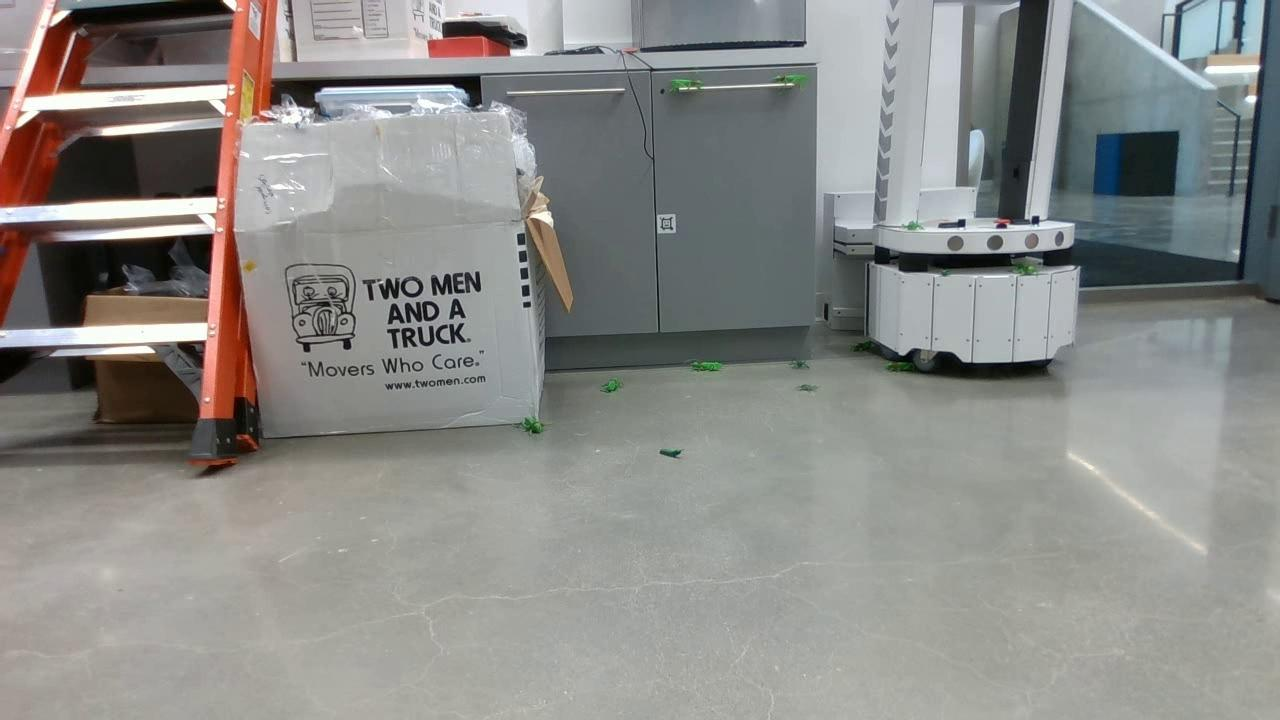grasshopper: (768, 71, 804, 89), (689, 359, 726, 375), (663, 78, 702, 93), (1015, 259, 1039, 279), (516, 417, 539, 436), (599, 376, 617, 394), (849, 335, 868, 350), (879, 362, 906, 372), (898, 222, 921, 231)
